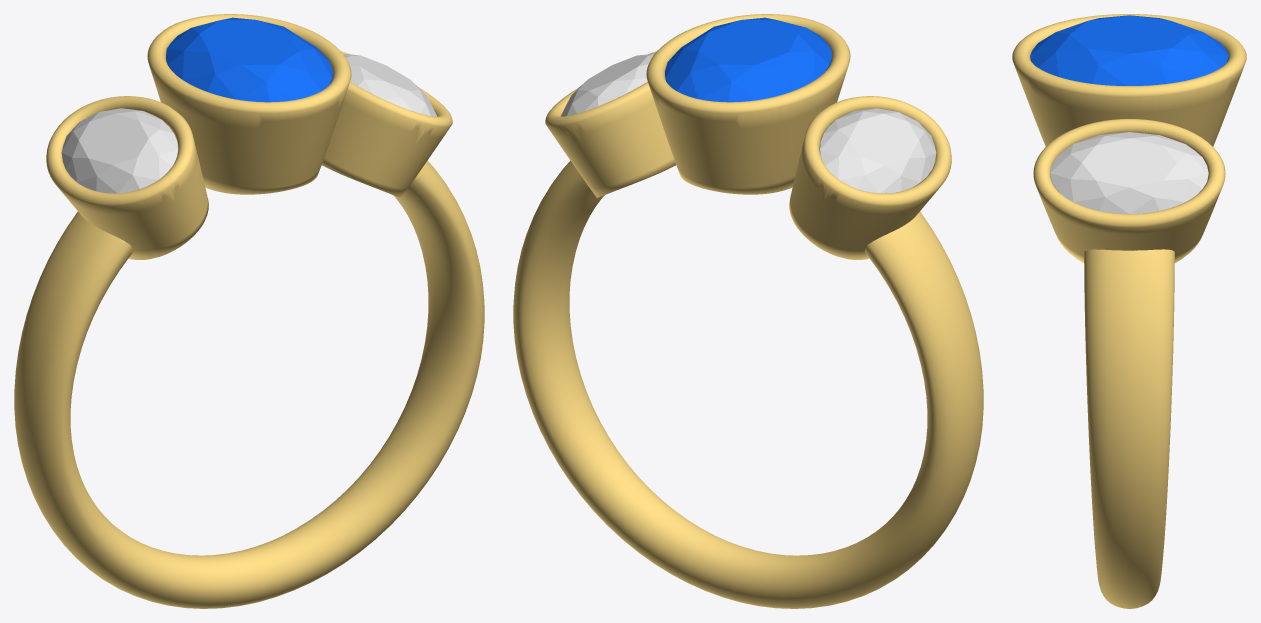
Rendered from bluesapphire-oval-yellowgold-bezelset-taperedband-3stone.glb.
The picture shows the model from 3 angles, left to right: view 1: azimuth 30°, elevation 25°; view 2: azimuth 150°, elevation 25°; view 3: azimuth 270°, elevation 25°; orthographic projection.
Parts seen in each view (by area): view 1: metal, stone.002, side.004, side.005; view 2: metal, stone.002, side.004, side.005; view 3: metal, stone.002, side.005.
Part boxes in pixels (bbox=[...]): metal: bbox=[14, 14, 484, 608]; stone.002: bbox=[166, 17, 332, 102]; side.004: bbox=[61, 108, 178, 193]; side.005: bbox=[343, 53, 437, 116]; metal: bbox=[513, 14, 983, 608]; stone.002: bbox=[665, 17, 831, 102]; side.004: bbox=[819, 108, 936, 193]; side.005: bbox=[560, 53, 654, 116]; metal: bbox=[1012, 14, 1246, 608]; stone.002: bbox=[1030, 15, 1228, 85]; side.005: bbox=[1050, 132, 1208, 213].
Size of the model in its own units: 19.89 by 23.4 by 9.04.
